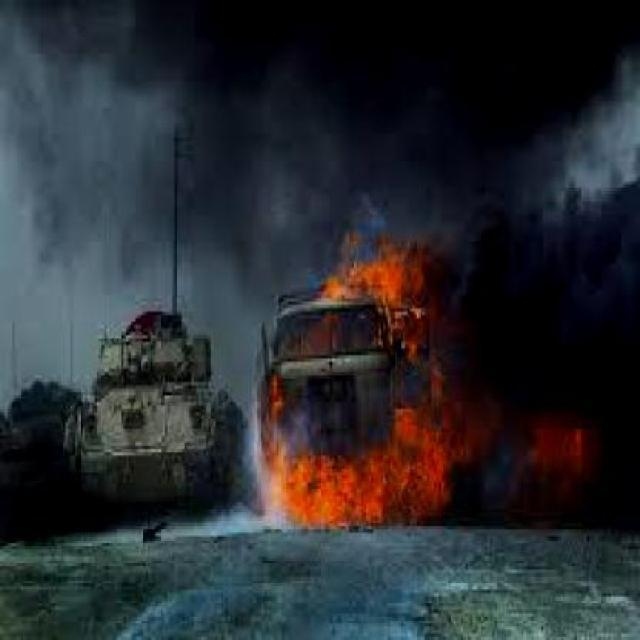Fire: (251, 245, 474, 532), (518, 406, 618, 517)
Smoke: (0, 0, 322, 289), (316, 0, 638, 235), (479, 151, 638, 380)
